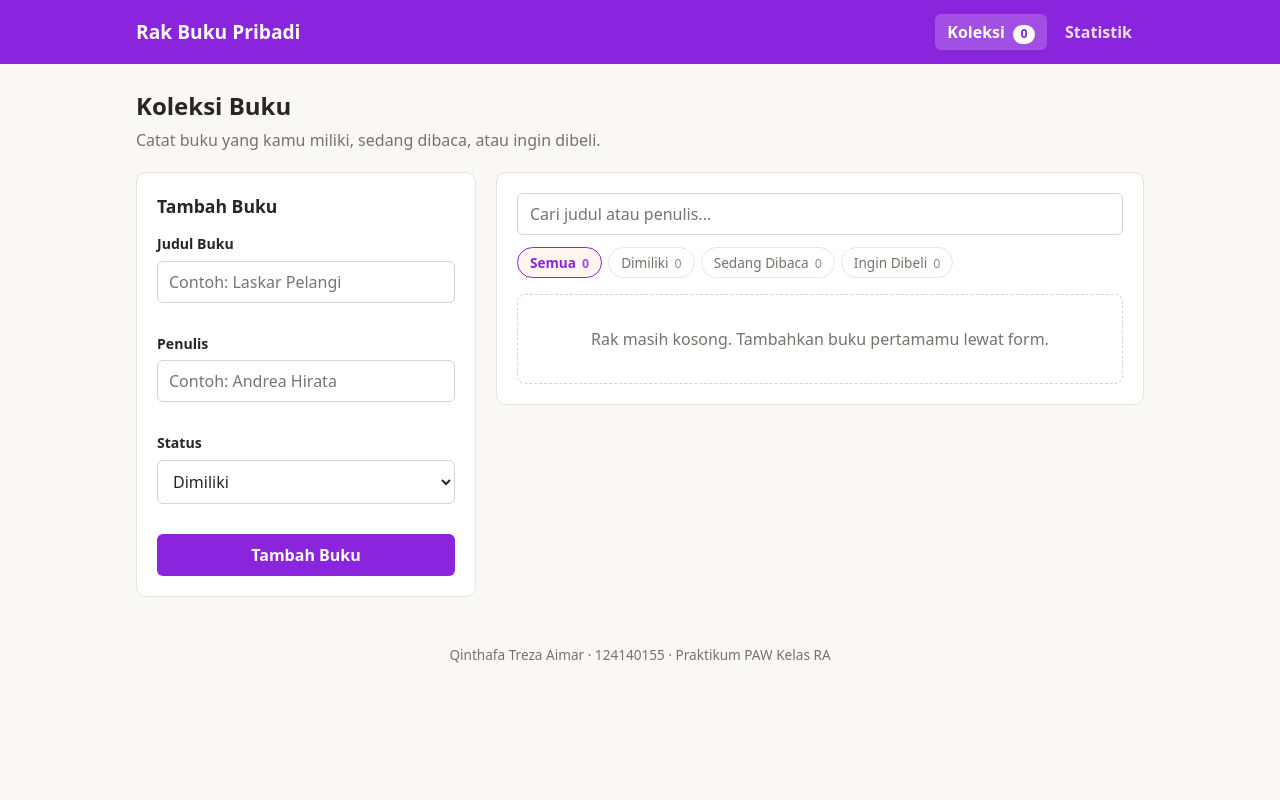
Scenario: Aplikasi Rak Buku (integrasi) › mengedit dan menghapus buku
The image size is (1280, 800).
Type "Bumi" into the field labelled "Judul Buku".
click(306, 282); type("Bumi")  # box [157,260,455,302]
Type "Tere Liye" into the field labelled "Penulis".
click(306, 381); type("Tere Liye")  # box [157,360,455,402]
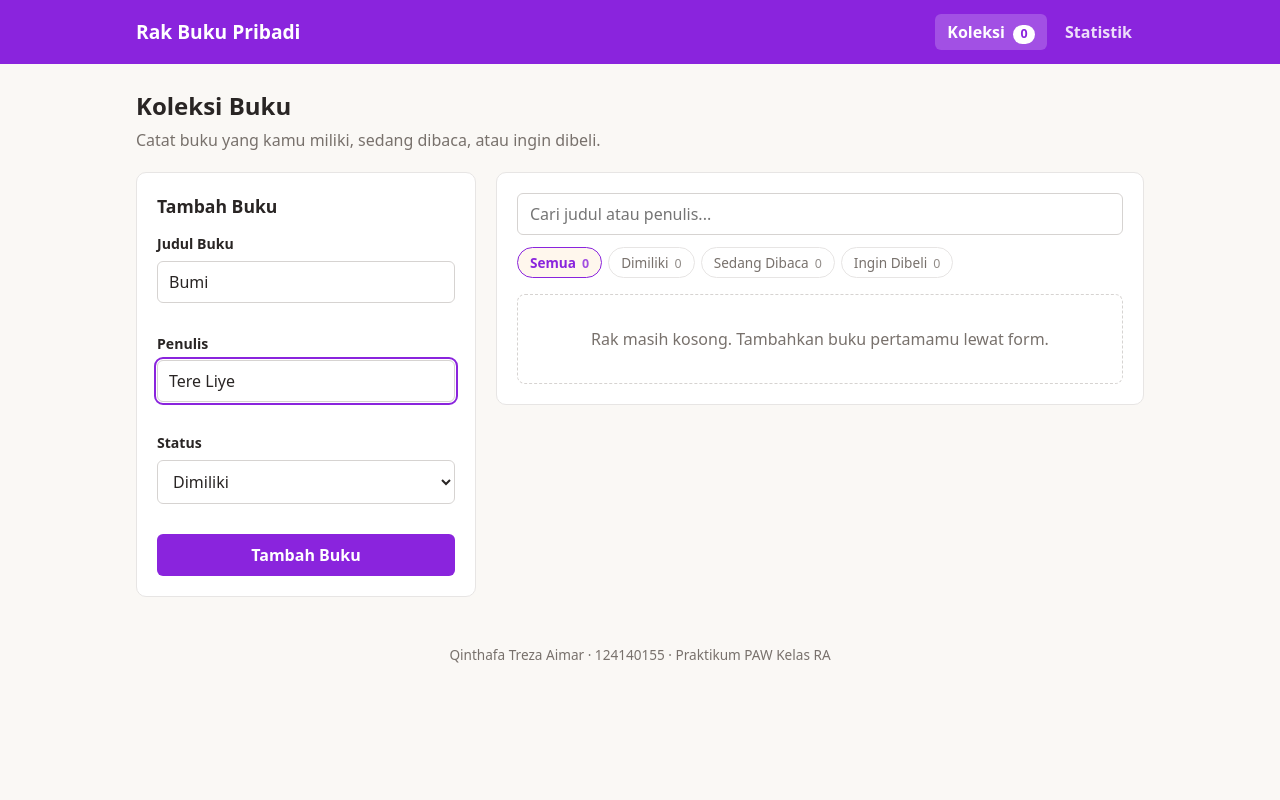
Select "Dimiliki" in the dropdown labelled "Status" at (306, 482), box [157,460,455,504]
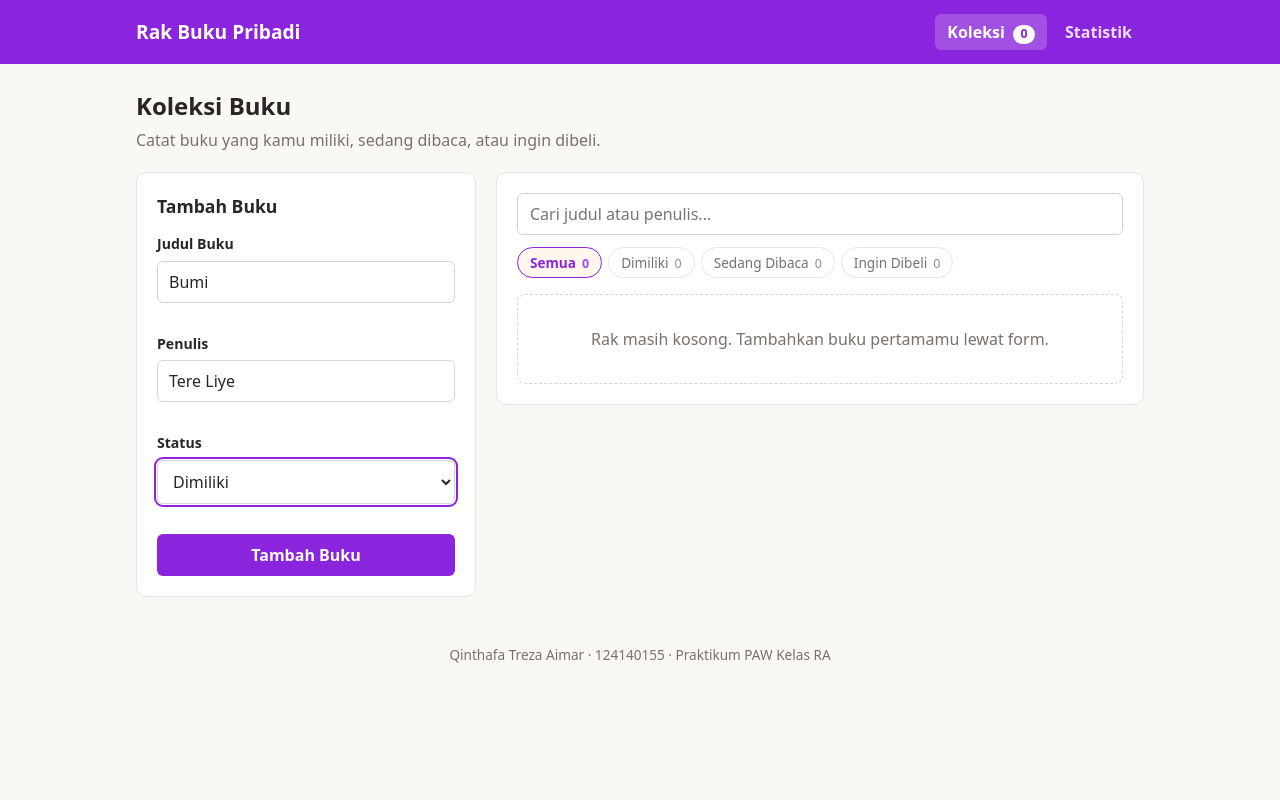
Click the button "Tambah Buku".
click(306, 555)  # box [157,534,455,576]
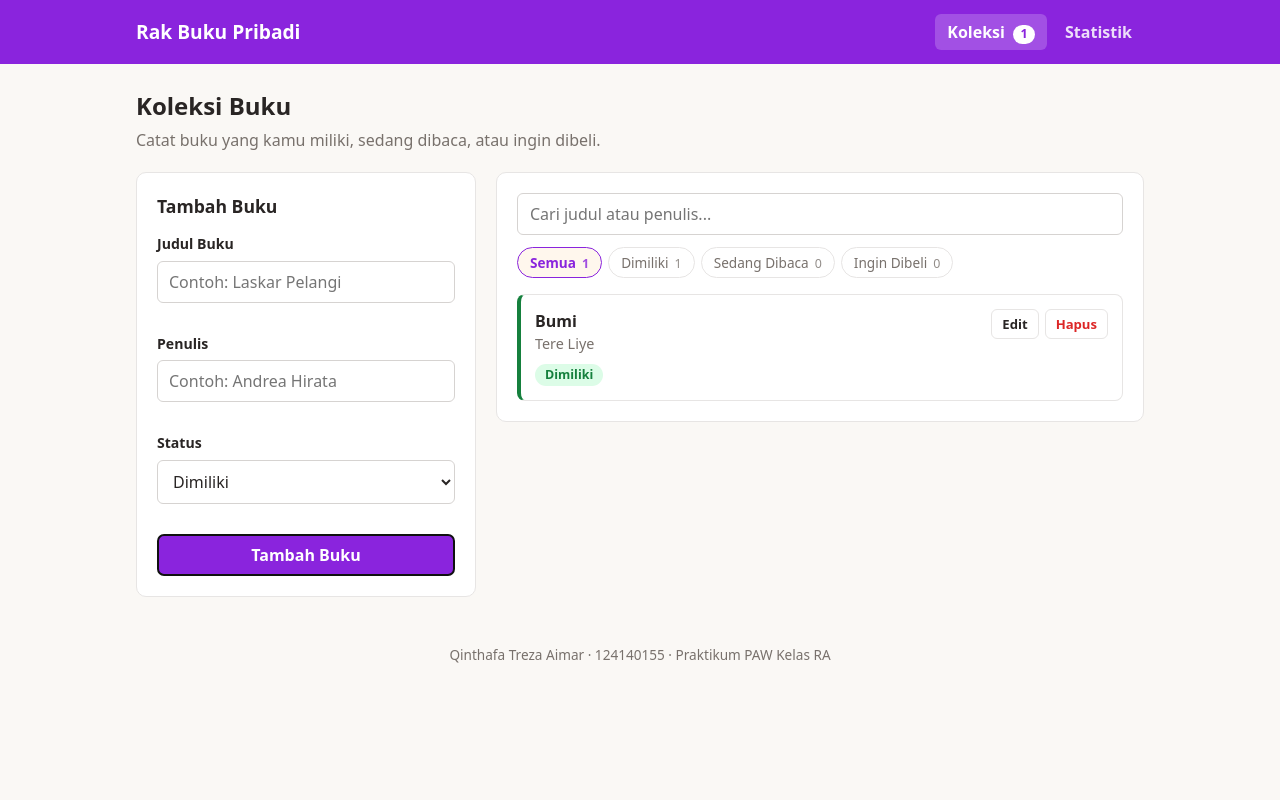
Click the button with aria-label "Edit Bumi".
click(1015, 324)  # box [991,309,1039,339]
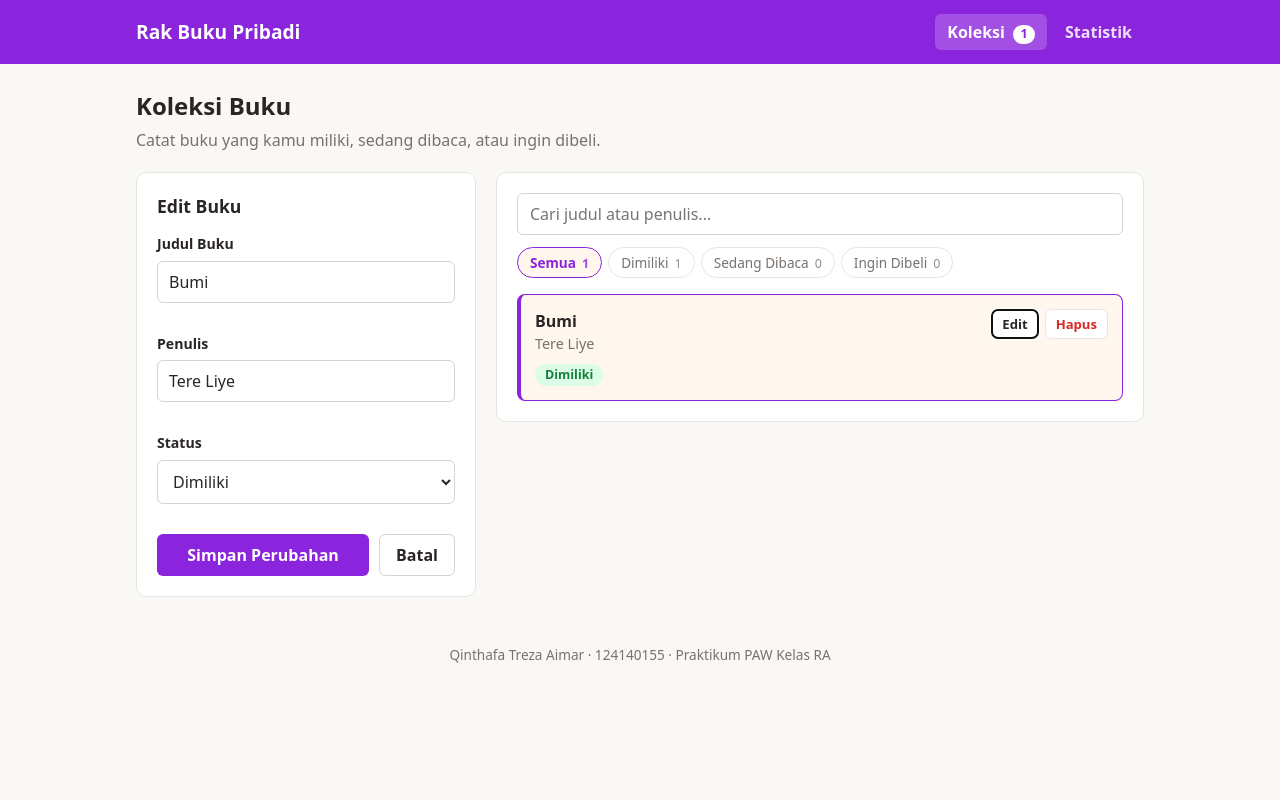
Replace the text in the field labelled "Judul Buku" with "Bumi (Edisi Baru)" at (306, 282), box [157,260,455,302]
Click the button "Simpan Perubahan".
click(263, 555)  # box [157,534,369,576]
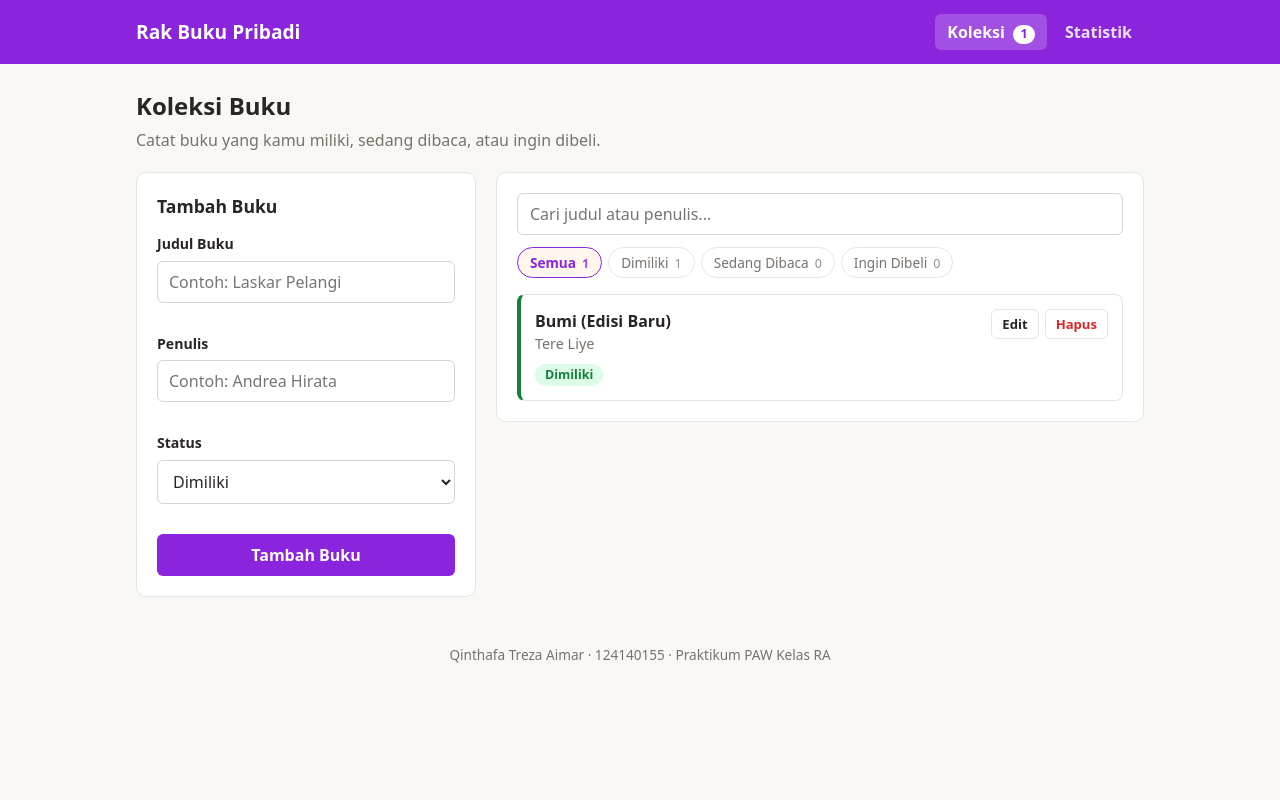
Result: the text "Bumi (Edisi Baru)" is shown at [535,309,671,333]
Click the button with aria-label "Hapus Bumi (Edisi Baru)".
click(1076, 324)  # box [1045,309,1108,339]
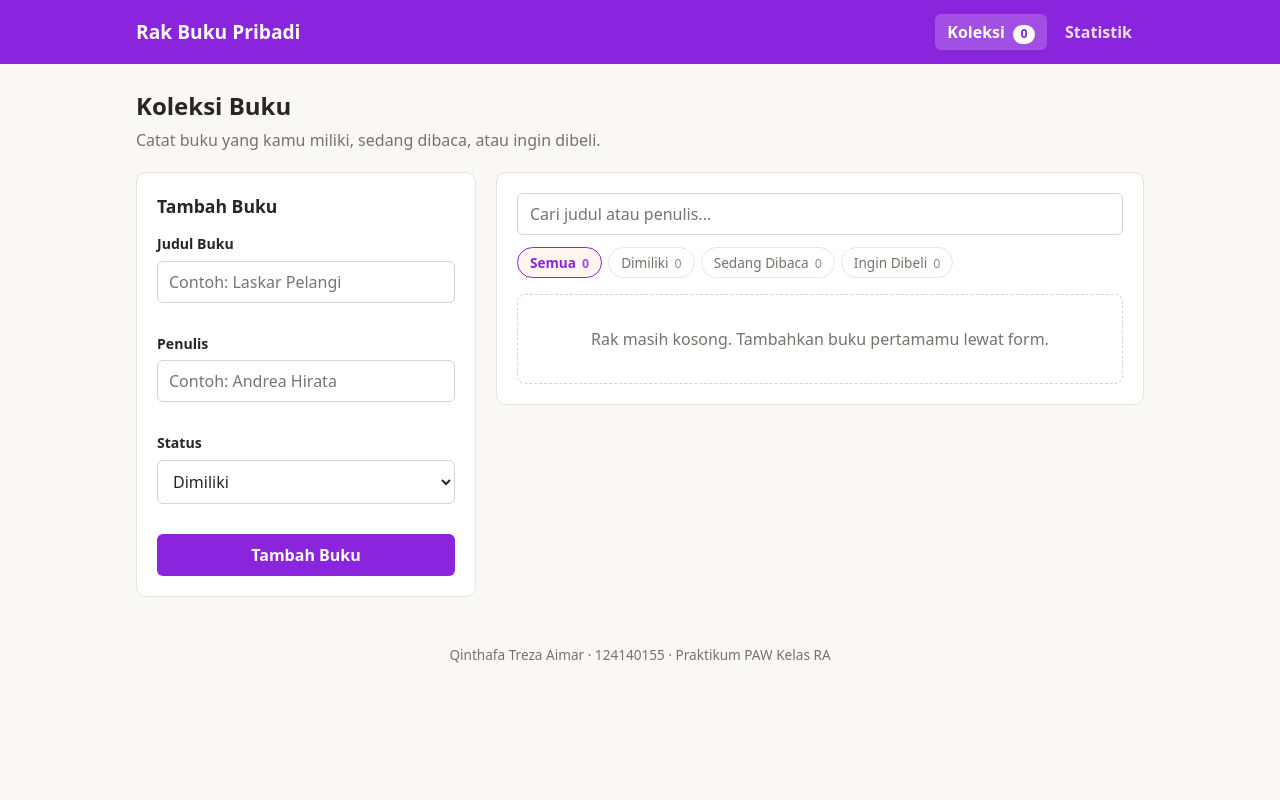
Result: the text "Rak masih kosong. Tambahkan buku pertamamu lewat form." is shown at [517,294,1123,384]
